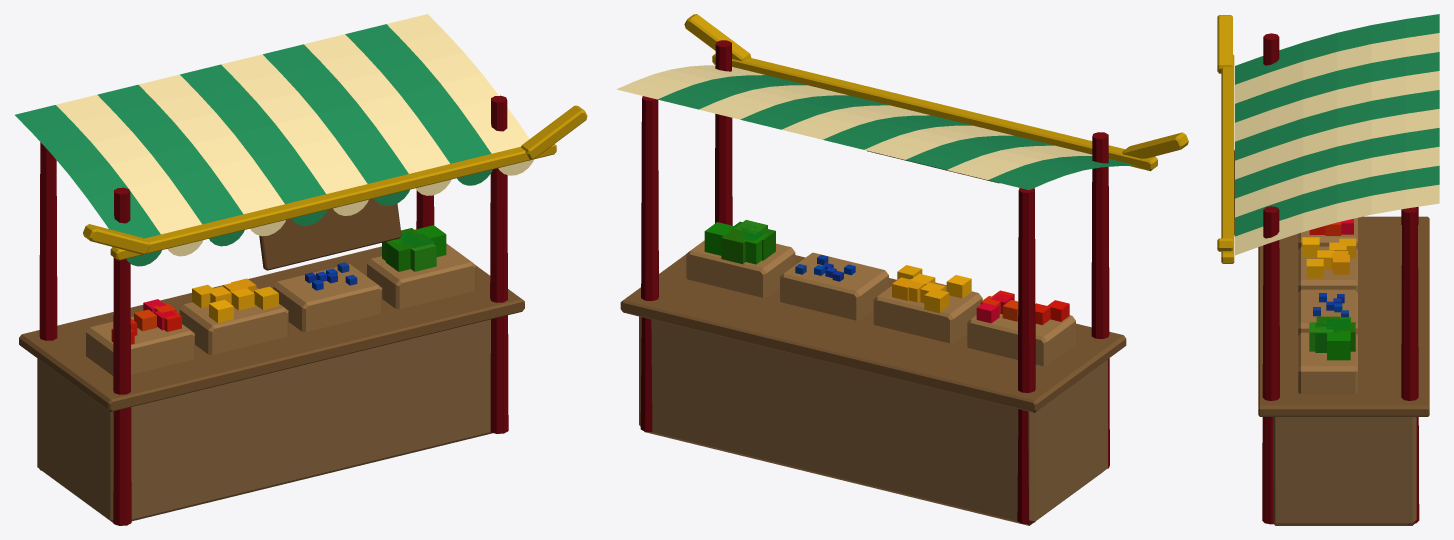
Rendered from stall_market.glb.
The picture shows the model from 3 angles, left to right: view 1: azimuth 30°, elevation 25°; view 2: azimuth 150°, elevation 25°; view 3: azimuth 270°, elevation 25°; orthographic projection. The views are drawn at different scales.
Parts seen in each view (by area): view 1: stall_market_wood, stall_market_fabric, stall_market_fruit; view 2: stall_market_wood, stall_market_fabric, stall_market_fruit; view 3: stall_market_wood, stall_market_fabric, stall_market_fruit.
Part boxes in pixels (x1=…): stall_market_wood: x1=19, y1=95, x2=587, y2=525; stall_market_fabric: x1=15, y1=14, x2=533, y2=266; stall_market_fruit: x1=111, y1=225, x2=446, y2=344; stall_market_wood: x1=620, y1=14, x2=1188, y2=525; stall_market_fabric: x1=616, y1=65, x2=1137, y2=189; stall_market_fruit: x1=704, y1=220, x2=1069, y2=325; stall_market_wood: x1=1217, y1=15, x2=1429, y2=525; stall_market_fabric: x1=1235, y1=14, x2=1439, y2=255; stall_market_fruit: x1=1302, y1=218, x2=1356, y2=360.
Bounding box in the file's own units: 4.1 × 2.75 × 1.68.
